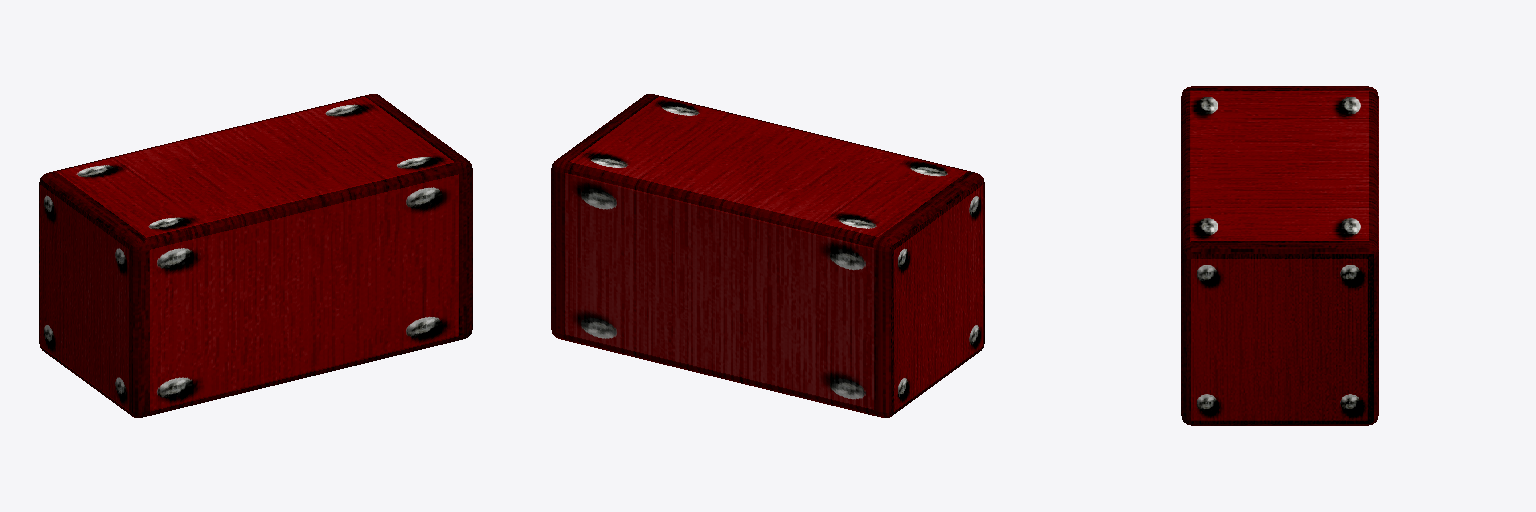
The picture shows the model from 3 angles: view 1: azimuth 30°, elevation 25°; view 2: azimuth 150°, elevation 25°; view 3: azimuth 270°, elevation 25°; orthographic projection.
Parts seen in each view (by area): view 1: default; view 2: default; view 3: default.
Part boxes in pixels (left/top/right/bottom): default: left=39, top=94, right=472, bottom=417; default: left=551, top=94, right=984, bottom=417; default: left=1181, top=86, right=1378, bottom=425.
Size of the model in its own units: 2 by 1 by 1.
Materials: 1 (1 with a texture image).